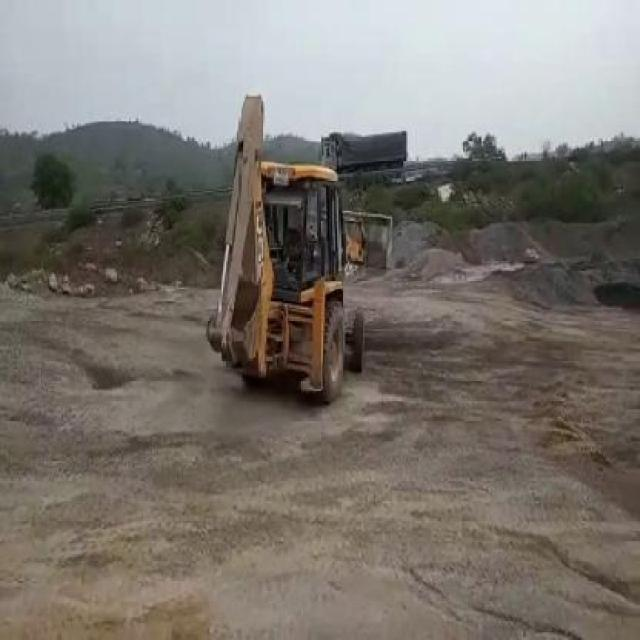dump_truck: (317, 122, 408, 168)
